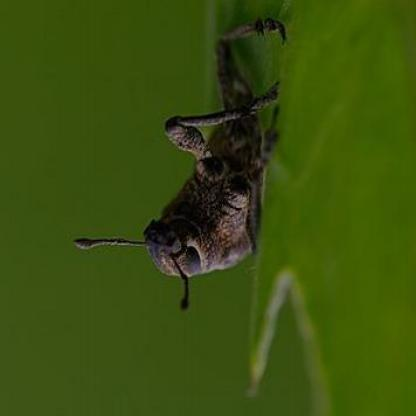rice-bug: (122, 15, 300, 294)
